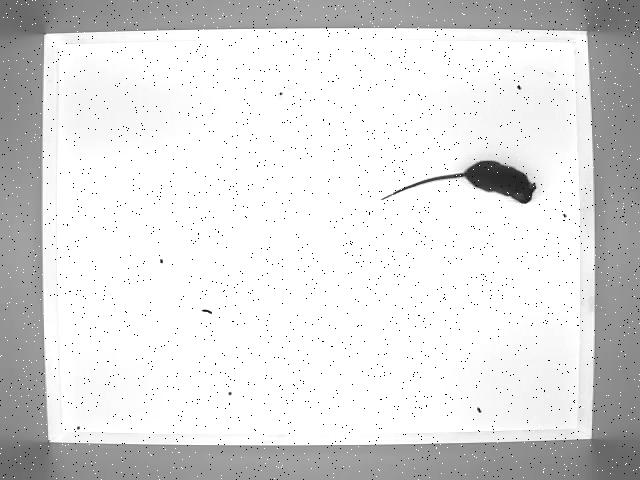Tikus: (378, 160, 550, 208)
